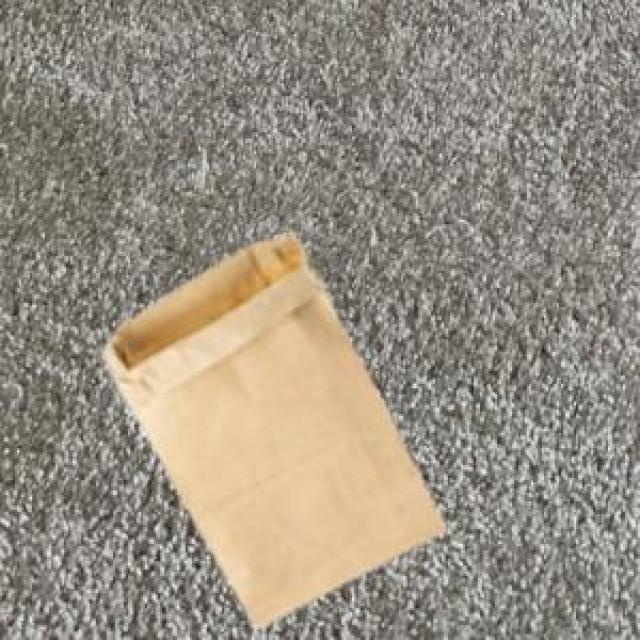paper: (100, 233, 440, 623)
